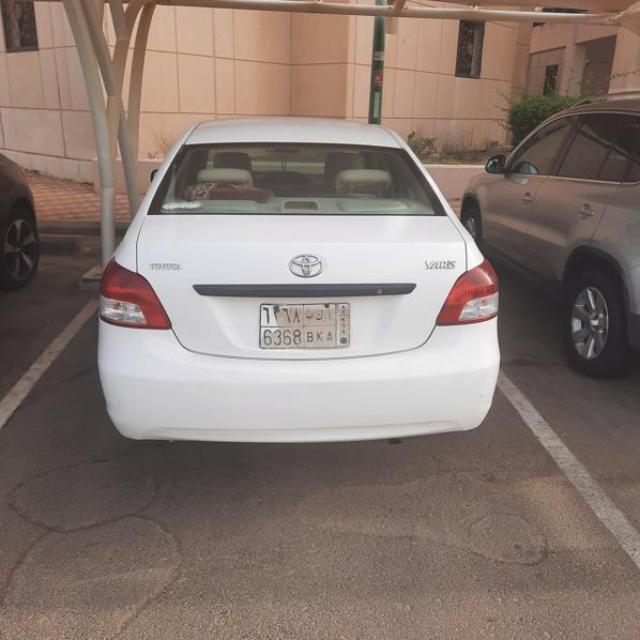license_plate: (257, 300, 353, 351)
